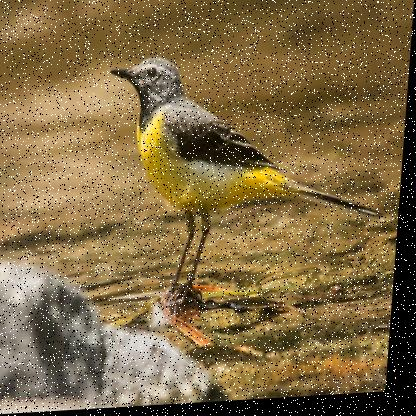Burung: (92, 46, 397, 315)
